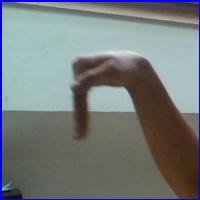del: (59, 46, 158, 140)
